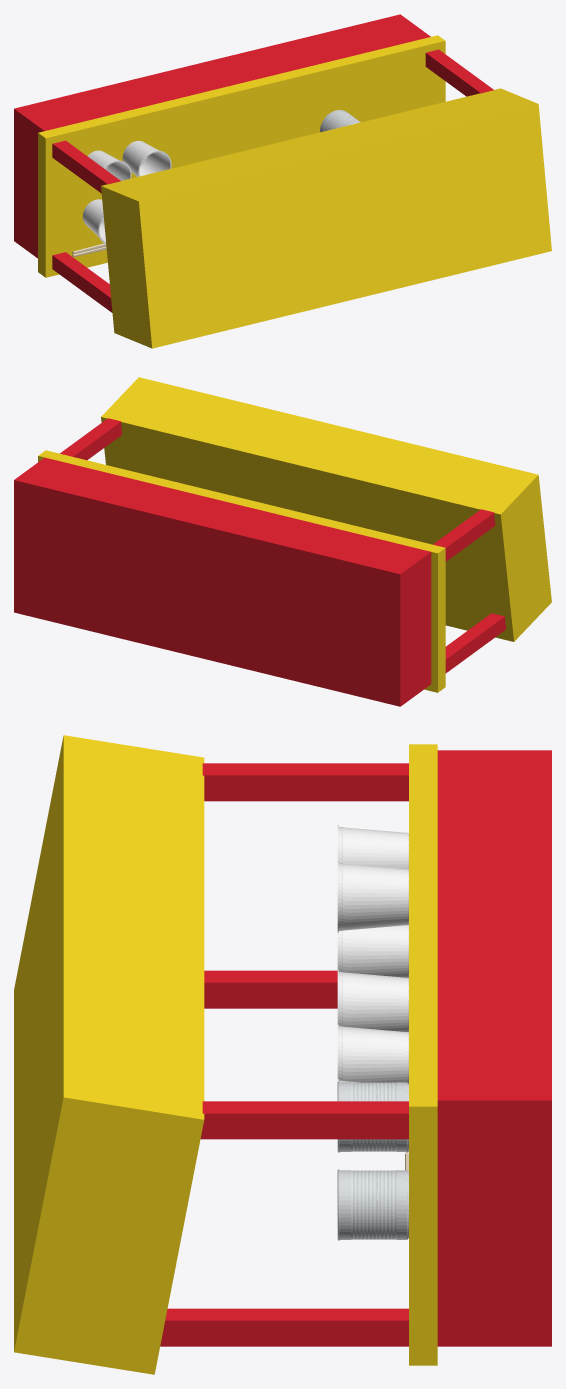
The model's file is Avater3.obj.
3 views of the same model, one above another, from view 1: azimuth 30°, elevation 25°; view 2: azimuth 150°, elevation 25°; view 3: azimuth 270°, elevation 25° (orthographic). The views are drawn at different scales.
Parts seen in each view (by area): view 1: group_0_16768282, group_0_15277357, group_0_16448250, group_0_14541540; view 2: group_0_15277357, group_0_16768282; view 3: group_0_16768282, group_0_15277357, group_0_16448250, group_0_14541540.
Boxes of the visible parts, x1,y1,x2,y2 form: group_0_16768282: (38,35,551,348); group_0_15277357: (14,14,494,312); group_0_16448250: (82,140,171,243); group_0_14541540: (320,110,360,132); group_0_15277357: (14,418,506,706); group_0_16768282: (38,377,551,692); group_0_16768282: (14,735,437,1374); group_0_15277357: (160,750,551,1346); group_0_16448250: (337,825,408,1083); group_0_14541540: (337,1081,408,1240).
Size of the model in its own units: 60 by 21.43 by 37.66.
